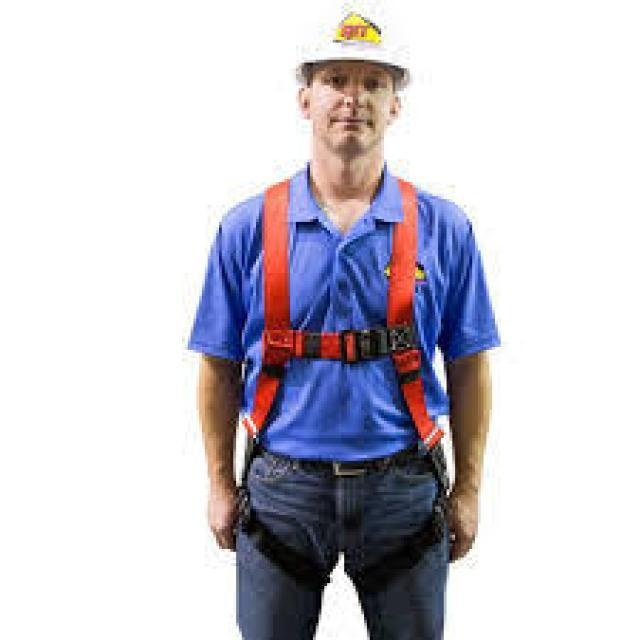Arnes_seguridad: (238, 174, 453, 588)
